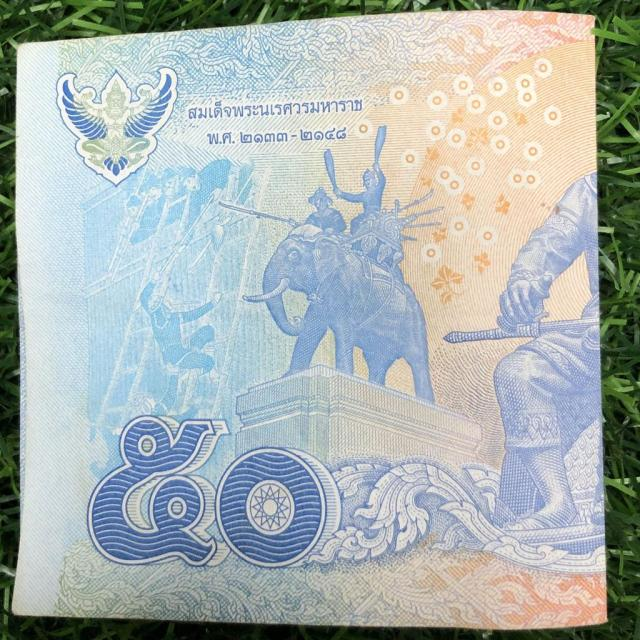THAI50: (12, 11, 606, 629)
